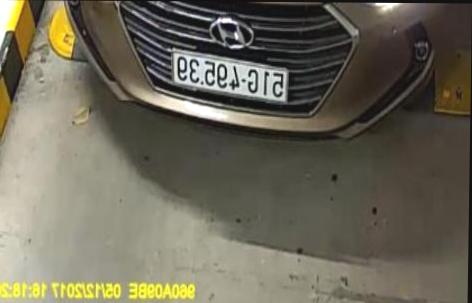License_Plate: (163, 52, 295, 110)
